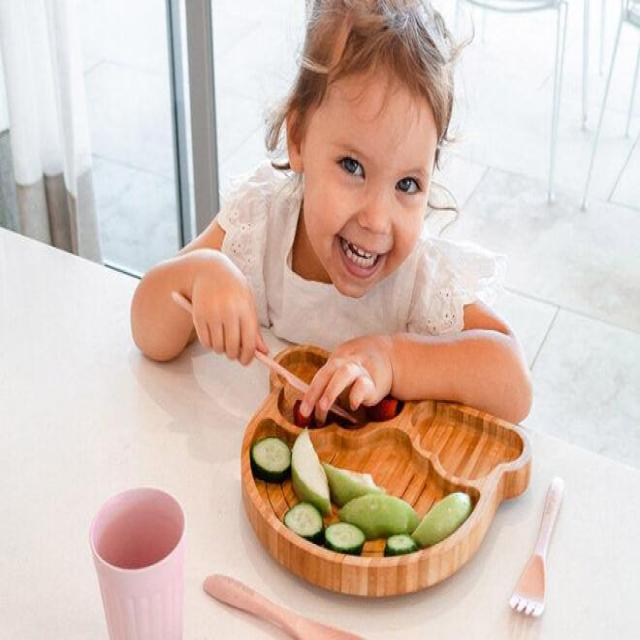child: (127, 1, 533, 425)
